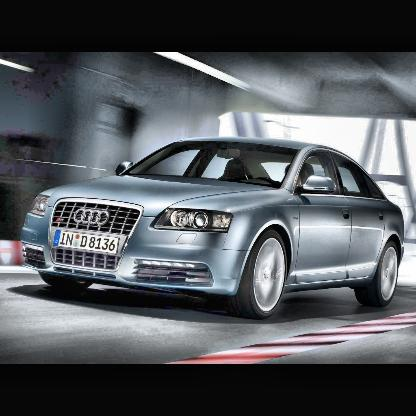Audi S6 Sedan 2011: (21, 137, 406, 323)
